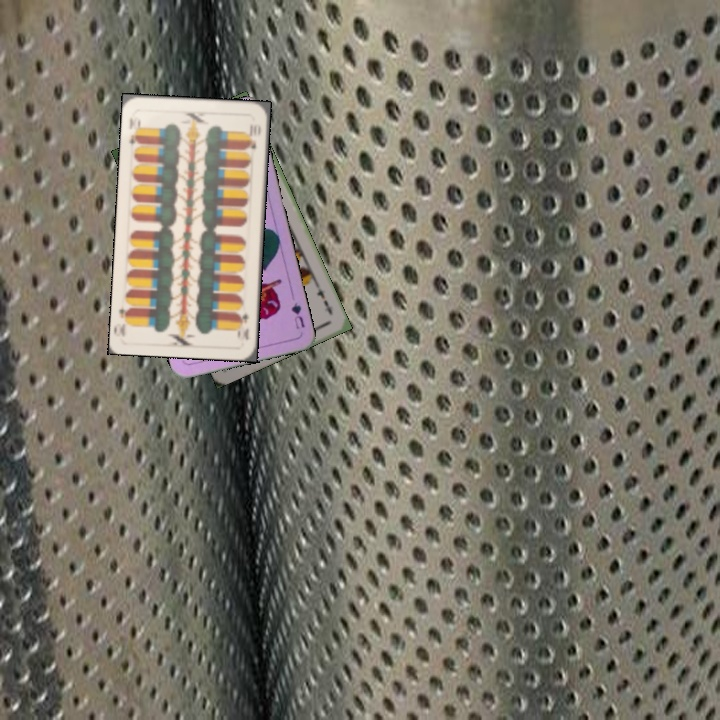E10: (125, 113, 144, 150), (233, 308, 251, 343)
E7: (312, 281, 335, 317)
GU: (287, 298, 307, 331)
